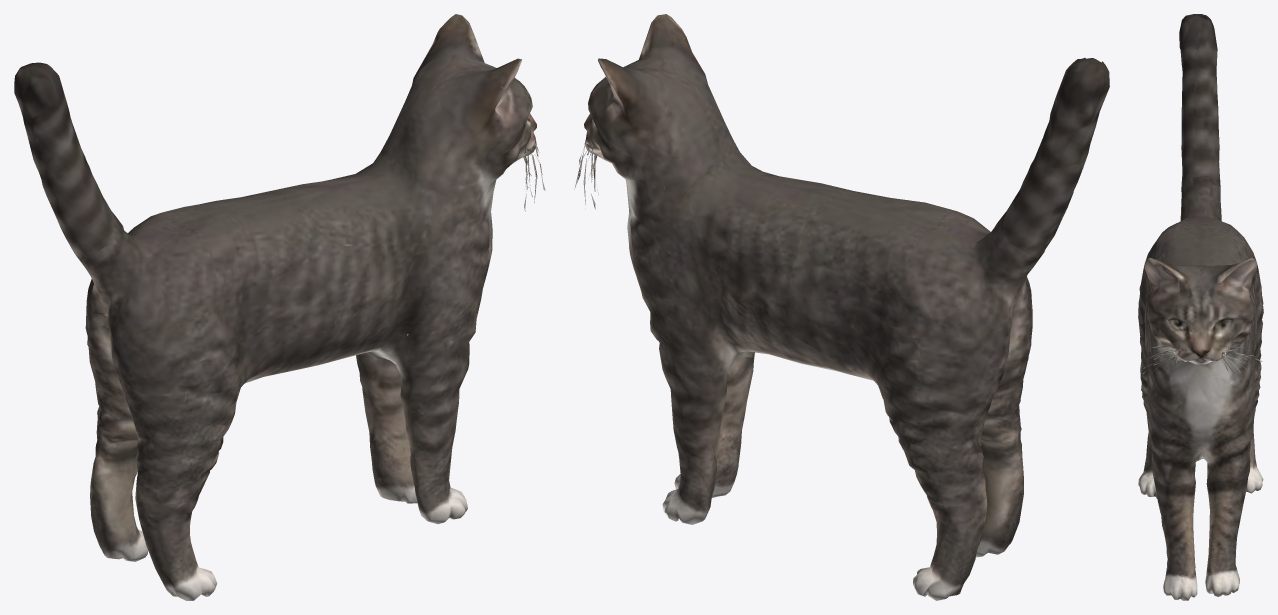
File: PAWFFICER-lo.glb
The picture shows the model from 3 angles, left to right: view 1: azimuth 30°, elevation 25°; view 2: azimuth 150°, elevation 25°; view 3: azimuth 270°, elevation 25°; orthographic projection. The views are drawn at different scales.
Visible parts, largest first — view 1: tripo_node_d5158124-e6f1-4724-8822-1594bba456c3; view 2: tripo_node_d5158124-e6f1-4724-8822-1594bba456c3; view 3: tripo_node_d5158124-e6f1-4724-8822-1594bba456c3.
Part boxes in pixels (x1=…): tripo_node_d5158124-e6f1-4724-8822-1594bba456c3: x1=14, y1=14, x2=545, y2=600; tripo_node_d5158124-e6f1-4724-8822-1594bba456c3: x1=574, y1=14, x2=1109, y2=600; tripo_node_d5158124-e6f1-4724-8822-1594bba456c3: x1=1138, y1=14, x2=1263, y2=600.
Size of the model in its own units: 1 by 0.9991 by 0.2663.
1 material, 1 textured.
